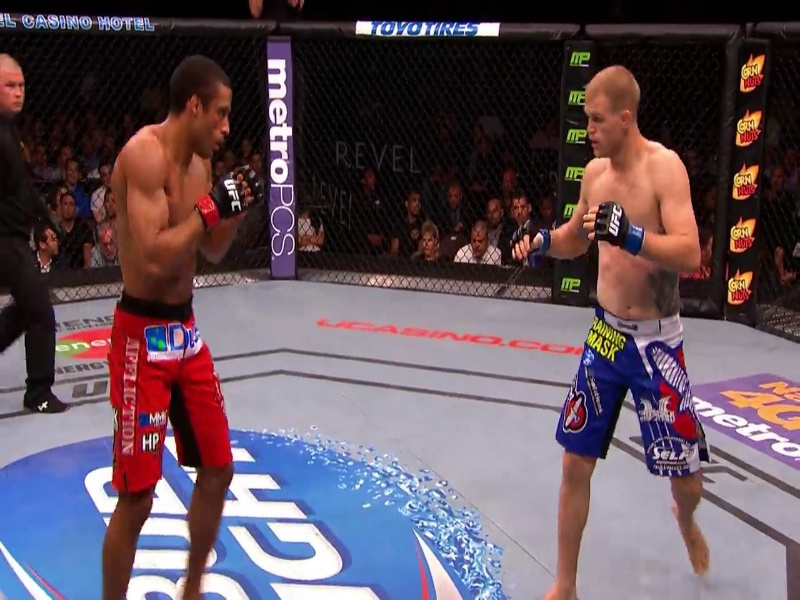fighter: (516, 61, 712, 600), (86, 42, 264, 600)
